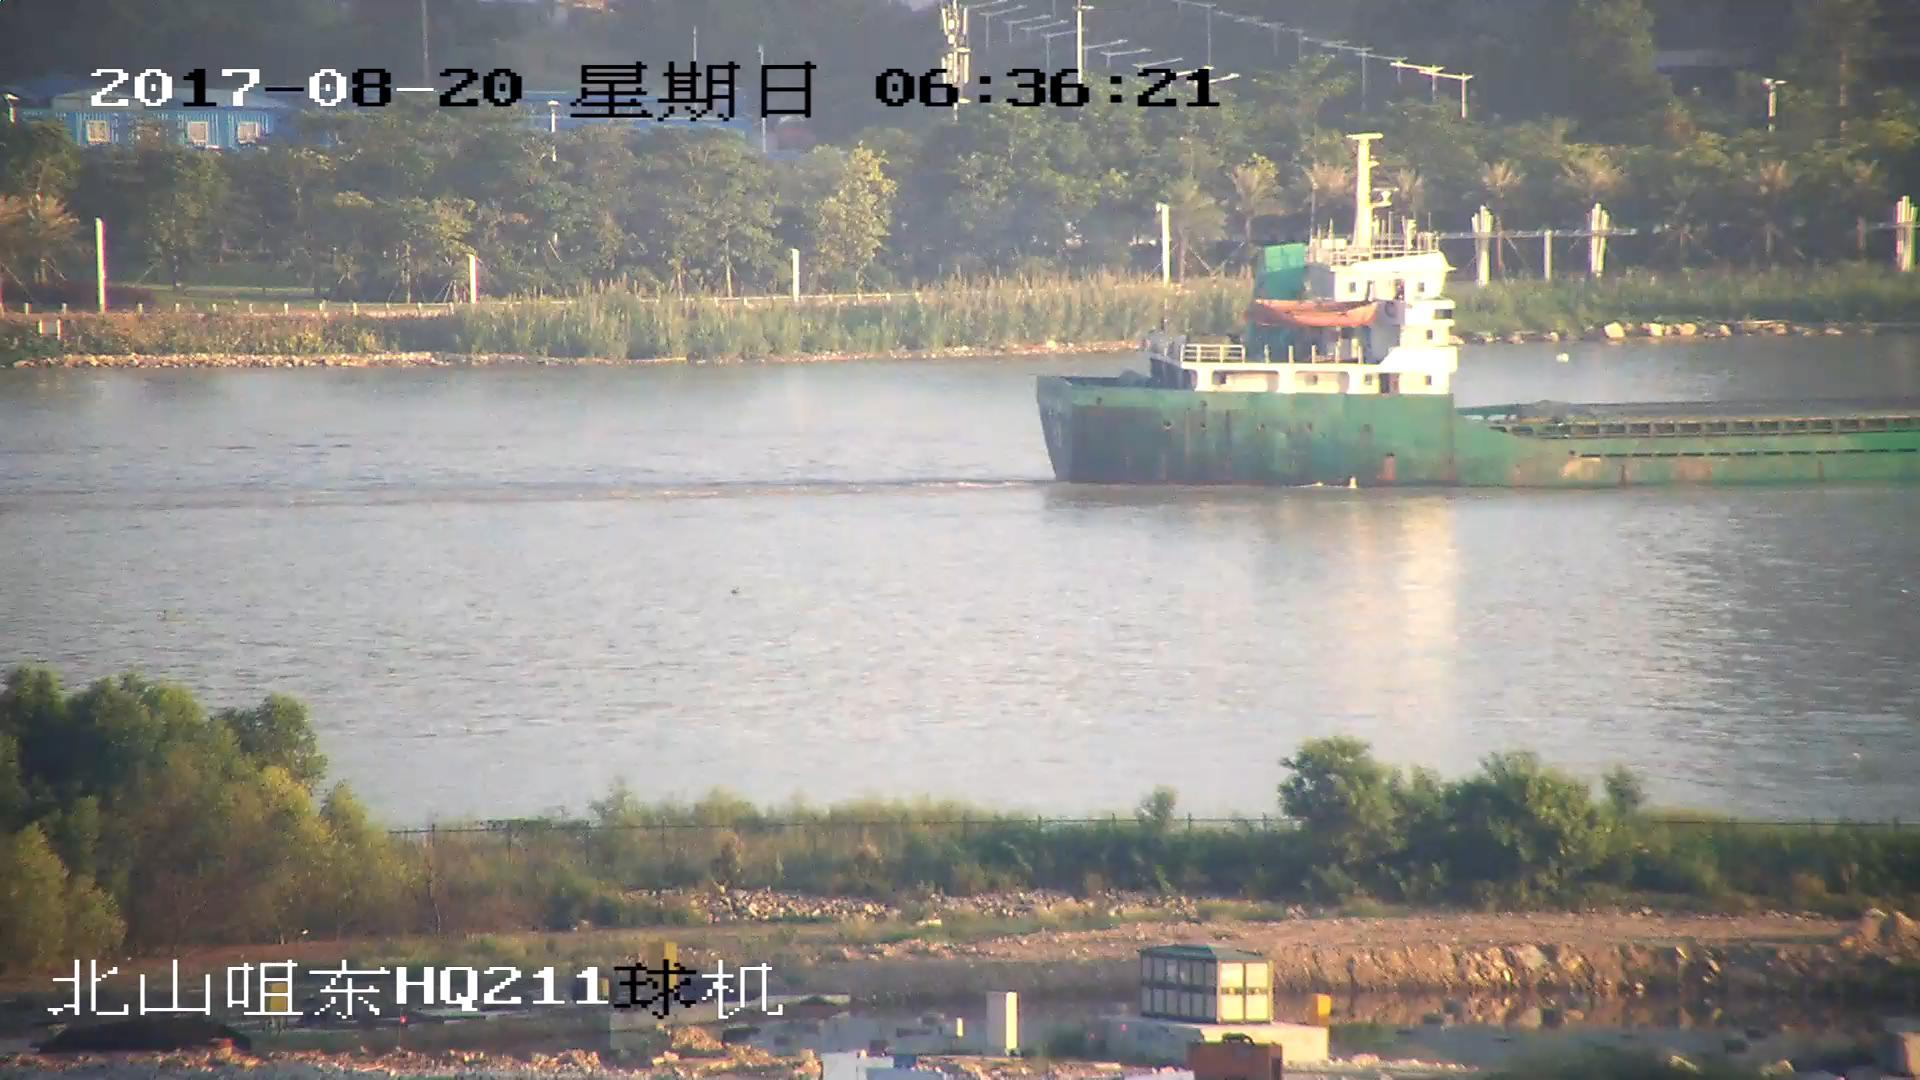Ship: (1034, 149, 1920, 496)
